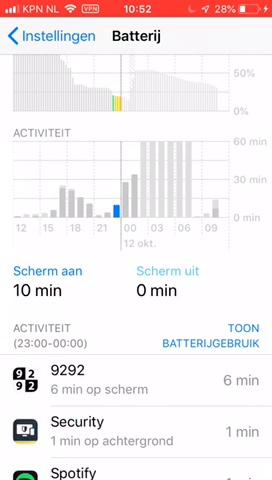activity: (10, 321, 93, 351)
app: (10, 362, 265, 399), (10, 413, 265, 450)
